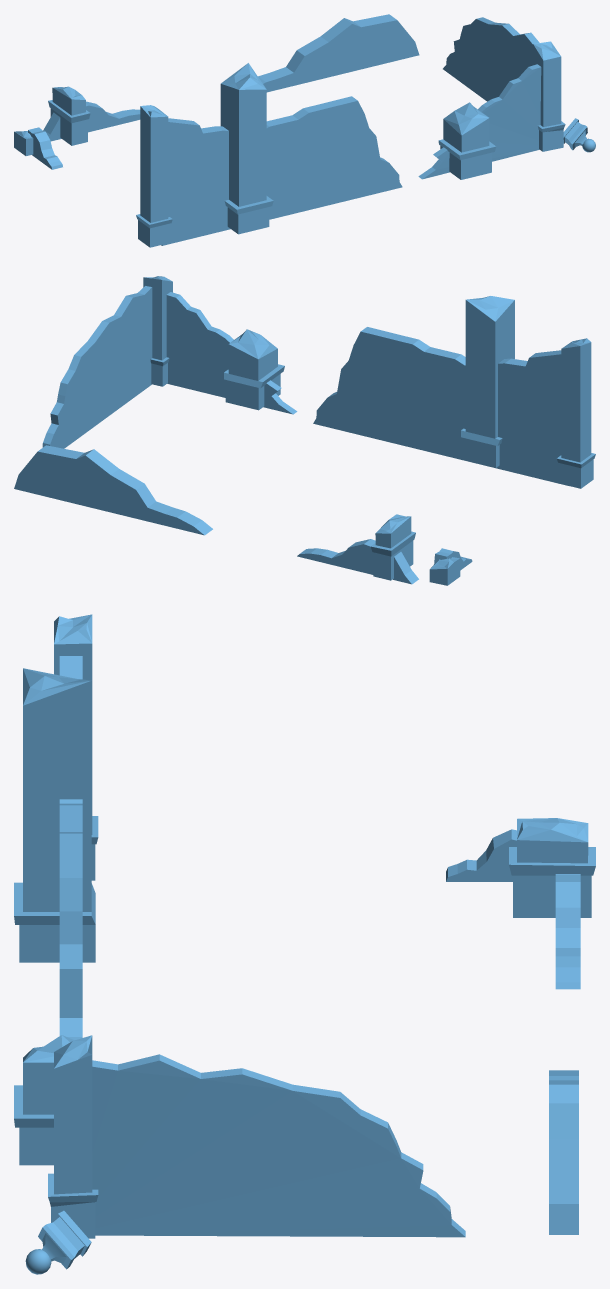
Rendered from mesh_SynagogueWallsRubble.fbx.
3 views of the same model, one above another, from view 1: azimuth 30°, elevation 25°; view 2: azimuth 150°, elevation 25°; view 3: azimuth 270°, elevation 25° (orthographic). The views are drawn at different scales.
Parts seen in each view (by area): view 1: mesh_SynagogueRuins; view 2: mesh_SynagogueRuins; view 3: mesh_SynagogueRuins.
Boxes of the visible parts, x1,y1,x2,y2 form: mesh_SynagogueRuins: (14, 14, 595, 247); mesh_SynagogueRuins: (14, 276, 595, 585); mesh_SynagogueRuins: (14, 614, 595, 1274).
Bounding box in the file's own units: 1674 × 577 × 1017.
